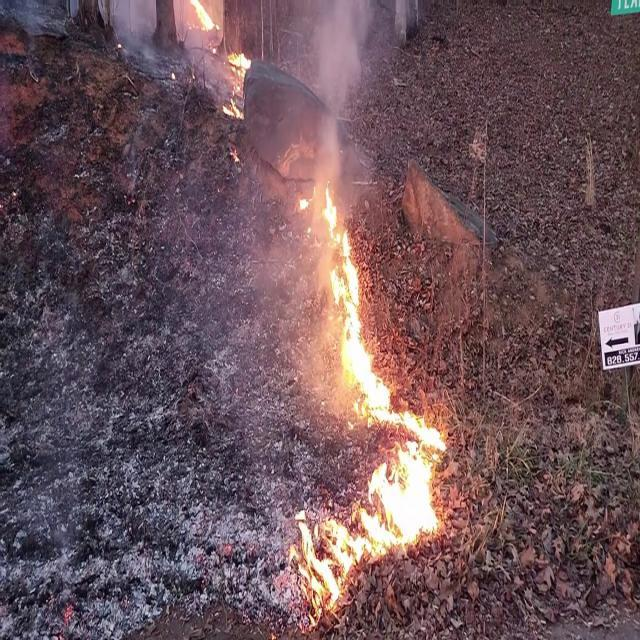Fire: (290, 413, 450, 619), (305, 178, 399, 422), (221, 44, 256, 118), (184, 0, 217, 34)
Smoke: (298, 0, 374, 158)
